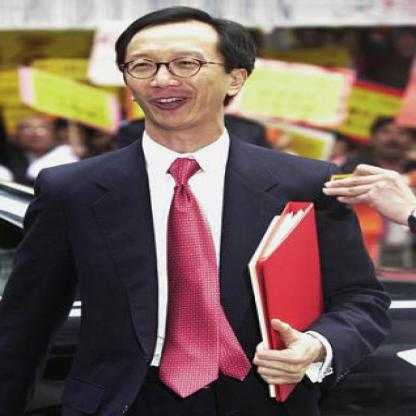face: (121, 13, 231, 130), (375, 119, 412, 158), (19, 118, 55, 151)
